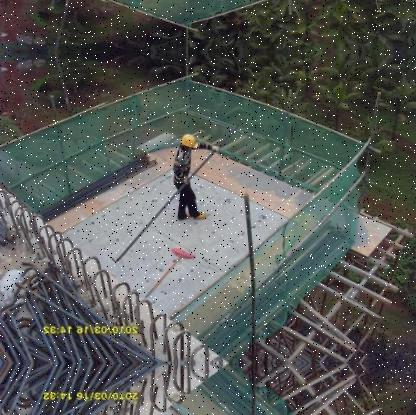helmet: (179, 133, 198, 154)
